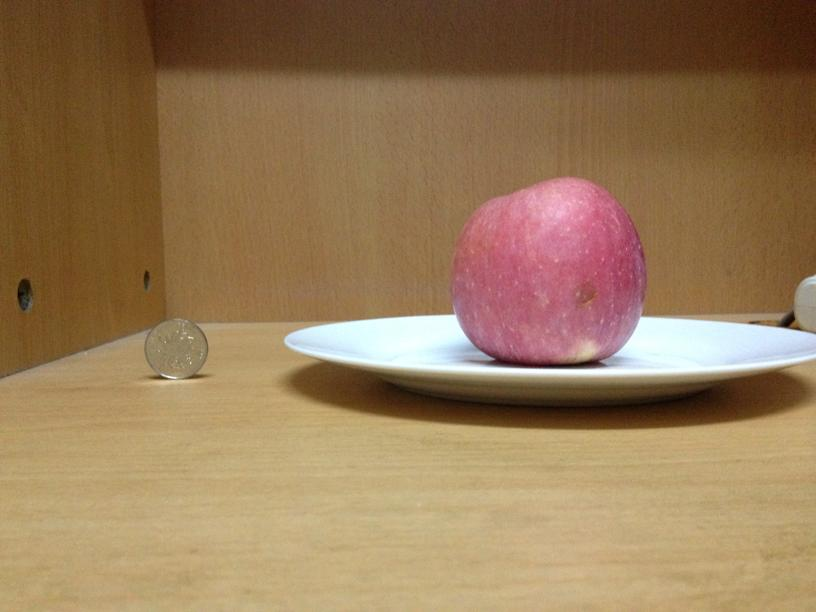apple: (444, 176, 646, 365)
coin: (145, 317, 207, 380)
